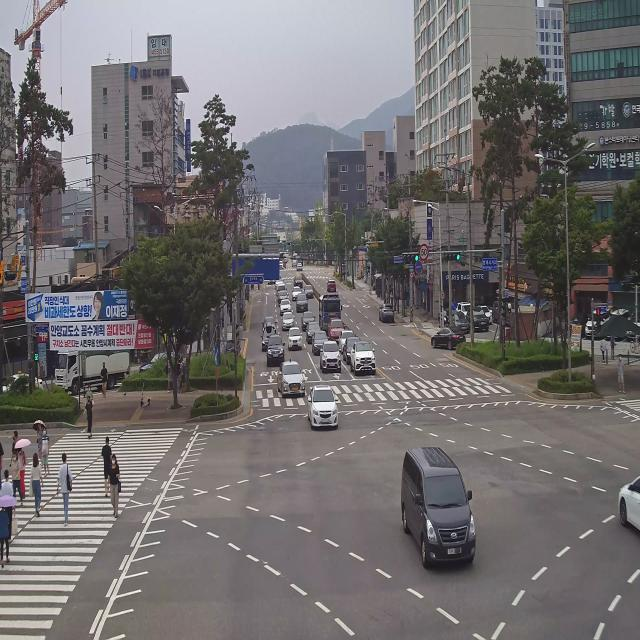Car: (398, 438, 481, 578), (304, 382, 344, 439), (614, 461, 640, 536), (0, 366, 53, 402), (270, 355, 311, 398), (346, 333, 375, 380), (208, 331, 246, 366), (313, 336, 346, 376), (426, 319, 464, 353), (585, 298, 610, 339), (140, 346, 171, 378), (567, 306, 592, 339), (265, 329, 286, 366), (466, 302, 488, 334), (372, 299, 397, 327), (326, 315, 346, 340), (450, 310, 470, 335), (288, 325, 304, 355), (343, 334, 359, 364), (312, 329, 328, 355), (504, 302, 518, 330), (261, 326, 277, 350), (454, 296, 470, 318), (436, 304, 450, 328), (281, 312, 297, 332), (302, 308, 318, 328), (294, 291, 309, 312), (340, 327, 352, 352), (482, 303, 495, 325), (306, 320, 319, 340), (494, 298, 504, 324), (264, 316, 278, 334), (278, 298, 292, 315), (325, 276, 338, 293), (304, 282, 314, 298), (294, 275, 303, 289), (278, 290, 286, 303), (293, 287, 301, 300), (296, 264, 305, 272)
Truck: (53, 339, 134, 398), (316, 288, 346, 337), (278, 285, 286, 298)
